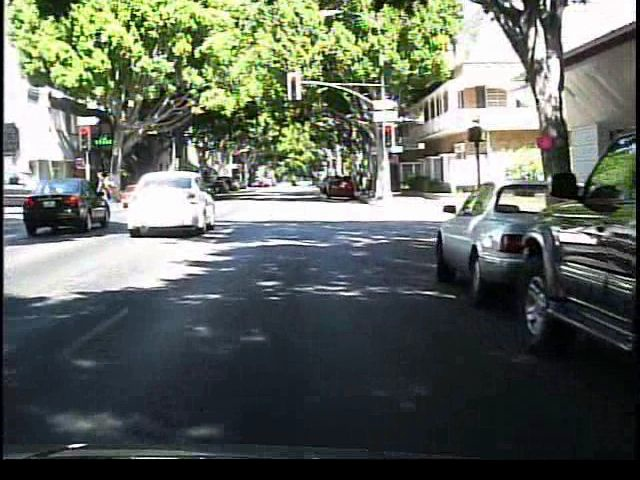person: (95, 163, 121, 206)
